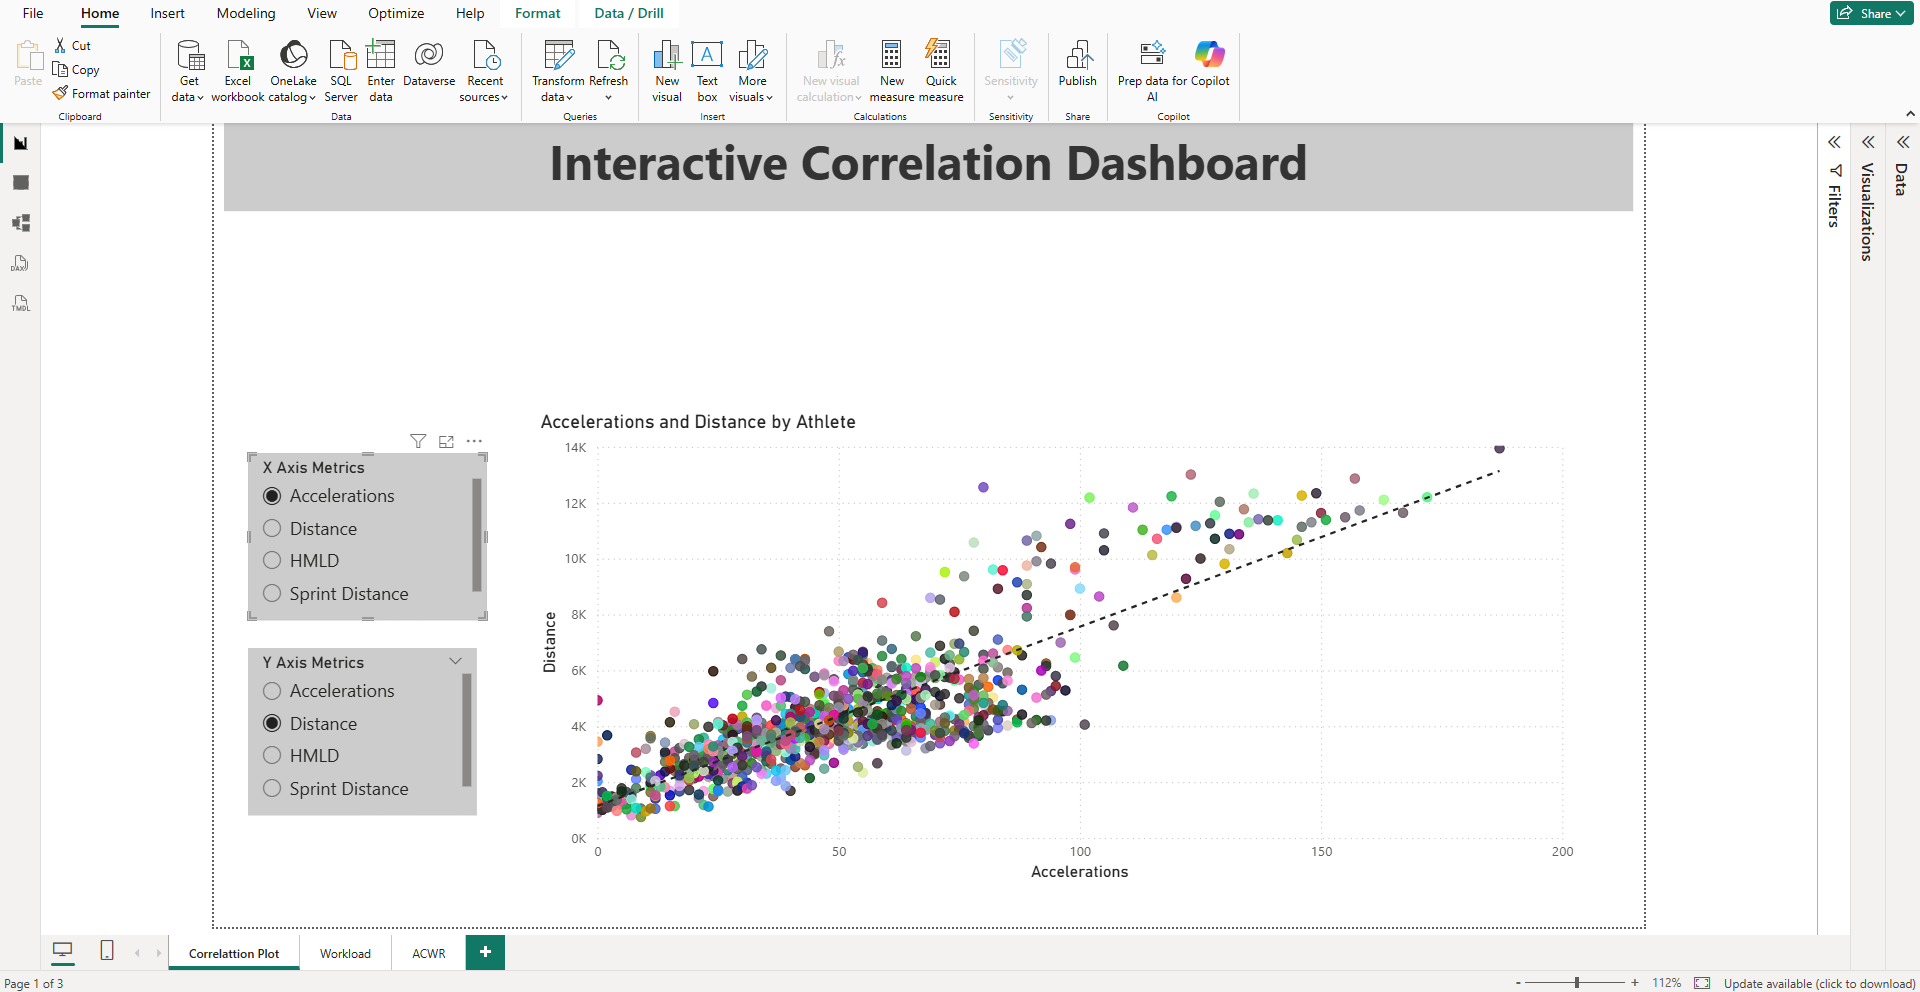

The dashboard page shown, as its layout file describes it:
{"tool":"powerbi","page":{"name":"Correlattion Plot","canvas":[1280,720],"ordinal":0},"visuals":[{"type":"scatterChart","fields":{"X":["daily_gps_data.Total Accelerations"],"Y":["daily_gps_data.Total Distance"],"Series":["daily_gps_data.Athlete"]},"box":[287.5,257,934.9,426.3],"z":2001},{"type":"slicer","fields":{"Values":["X Axis Metrics.X Axis Metrics"]},"box":[30.4,295.5,214,149.6],"z":2002},{"type":"slicer","fields":{"Values":["Y Axis Metrics.Y Axis Metrics"]},"box":[30.4,470.1,205.1,149.6],"z":2003},{"type":"textbox","box":[9,0,1261.8,78.8],"z":2004}]}

Visuals, with their boxes on the page's 1280x720 design canvas (x1, y1, x2, y2). These are canvas units, not pixel positions in the 1920x992 screenshot, which may show the page scaled, cropped or inside an application window:
scatterChart - daily_gps_data.Total Accelerations x daily_gps_data.Total Distance: x1=288 y1=257 x2=1222 y2=683
slicer - X Axis Metrics.X Axis Metrics: x1=30 y1=296 x2=244 y2=445
slicer - Y Axis Metrics.Y Axis Metrics: x1=30 y1=470 x2=236 y2=620
textbox: x1=9 y1=0 x2=1271 y2=79
